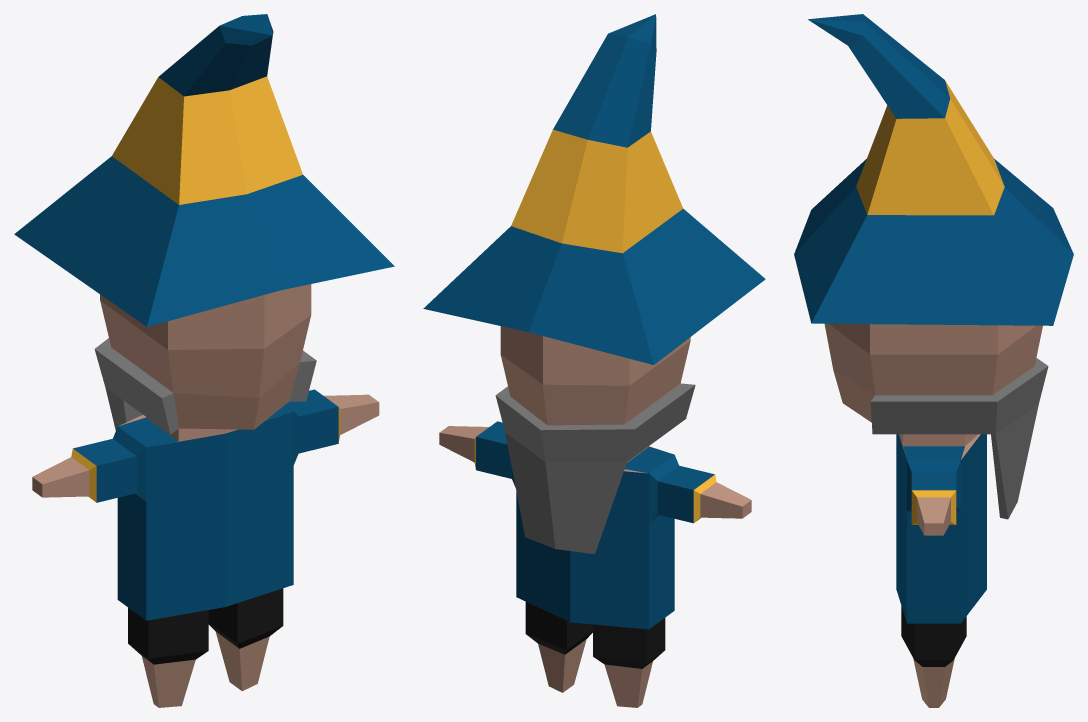
Rendered from Wizard.fbx.
3 renders of one model, left to right at view 1: azimuth 30°, elevation 25°; view 2: azimuth 150°, elevation 25°; view 3: azimuth 270°, elevation 25°, orthographic. The views are drawn at different scales.
Parts seen in each view (by area): view 1: Wizard; view 2: Wizard; view 3: Wizard.
Boxes of the visible parts, x1,y1,x2,y2 form: Wizard: [14, 14, 394, 707]; Wizard: [423, 14, 765, 707]; Wizard: [794, 14, 1073, 707].
Bounding box in the file's own units: 198 × 398 × 152.
